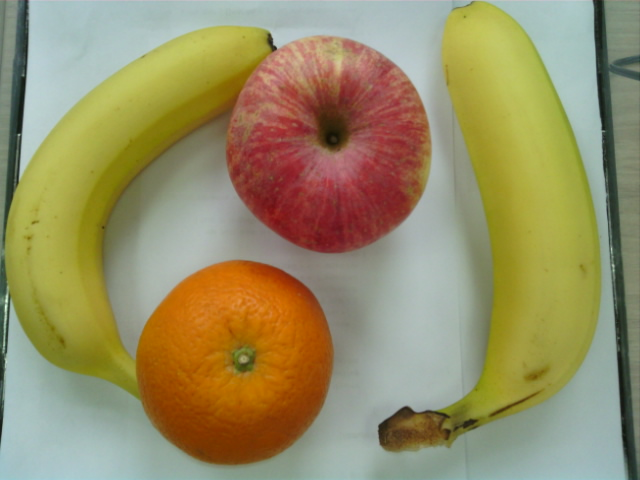normal_apple: (230, 34, 432, 254)
normal_banana: (2, 26, 277, 390), (440, 7, 606, 455)
normal_orange: (134, 261, 332, 467)
